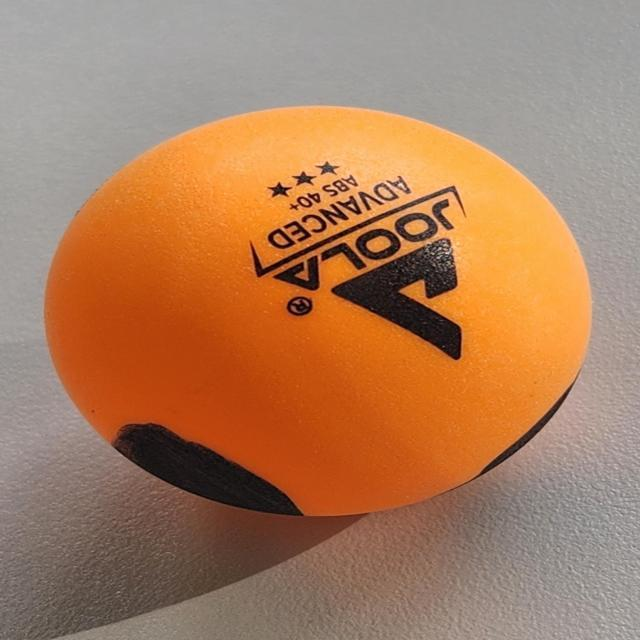ping-pong-ball: (35, 96, 627, 530)
